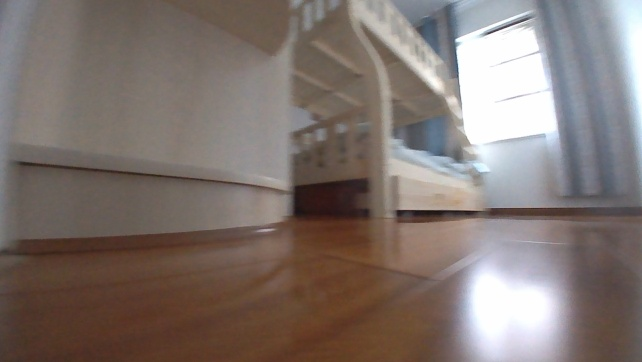bed: (289, 0, 492, 223)
